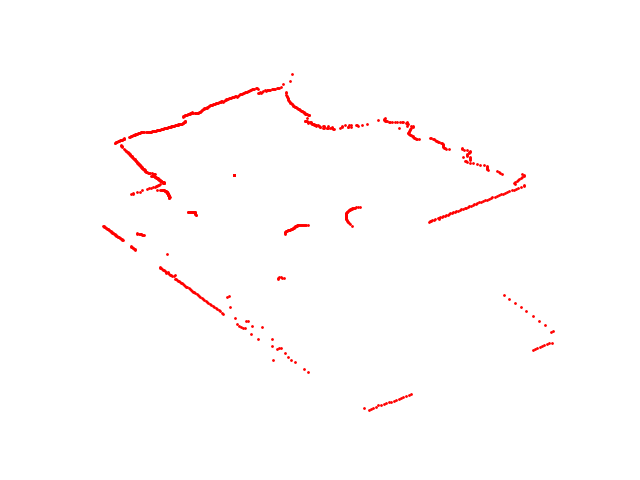person: (283, 204, 365, 238)
